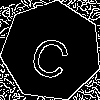C: (26, 26, 77, 82)
